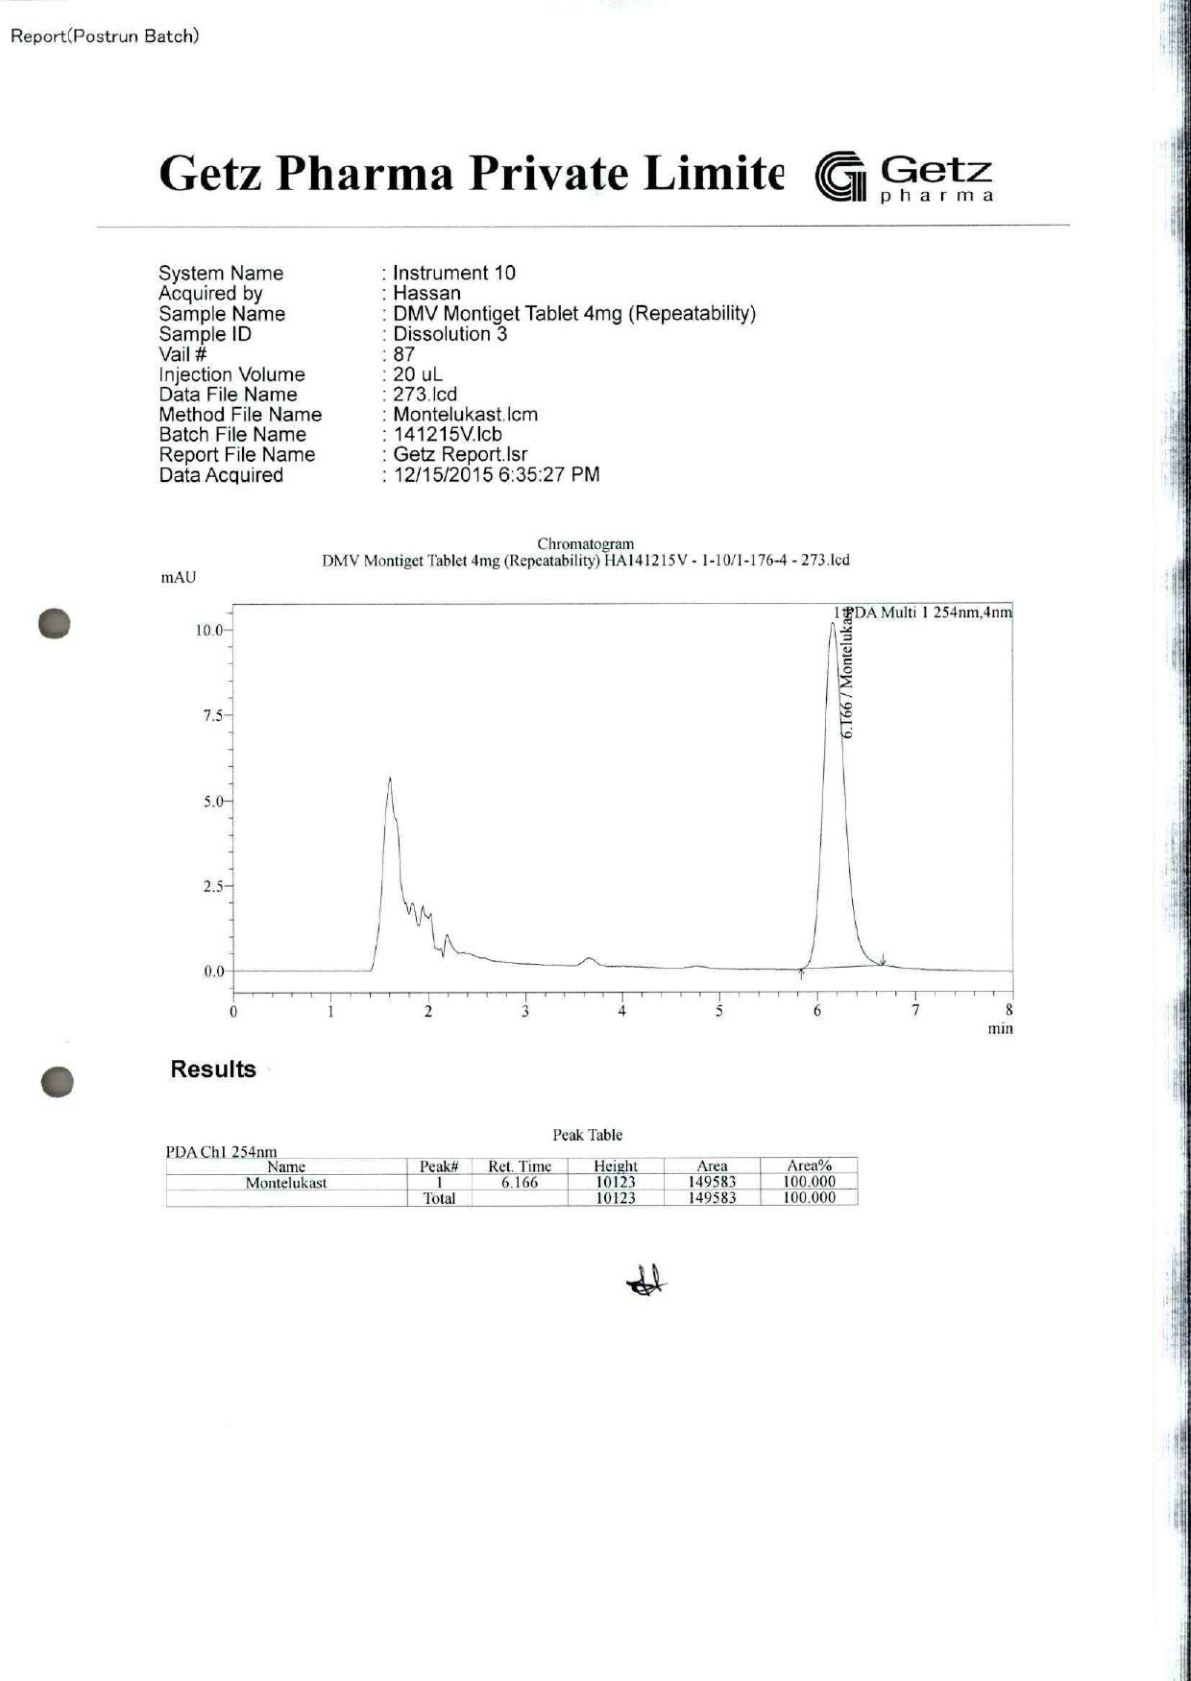full_lined: (164, 1156, 858, 1208)
nolines: (155, 260, 760, 487)
